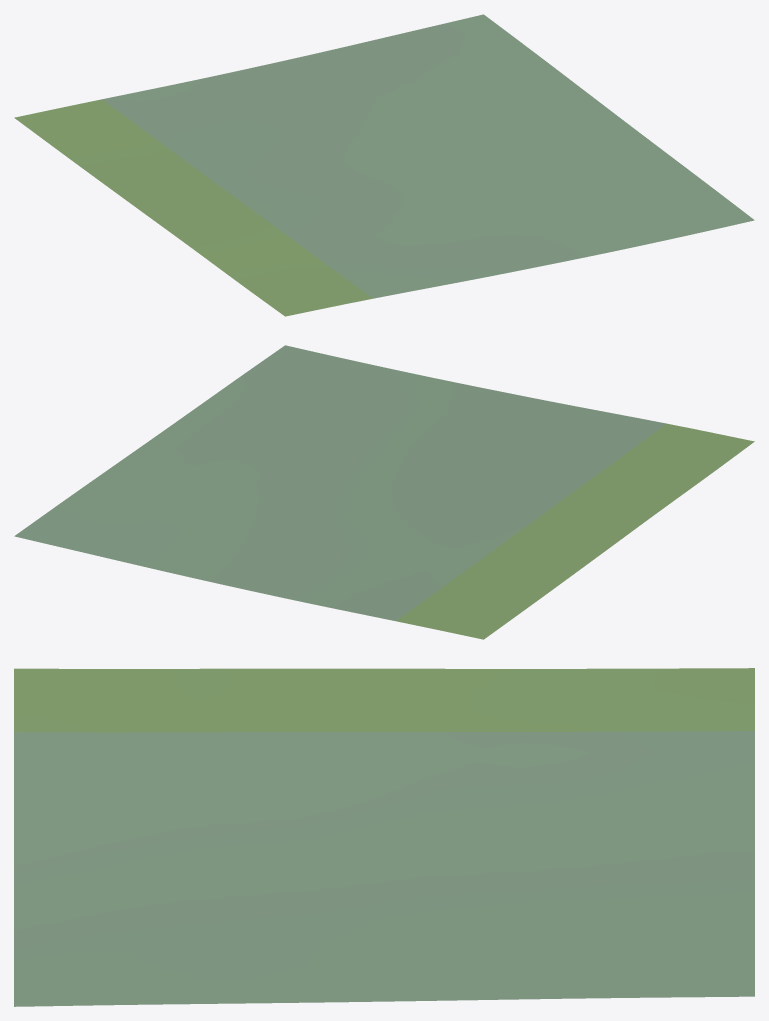
File: floor_001_chunk_x+02_z+11_collision.glb
3 renders of one model, top to bottom at view 1: azimuth 30°, elevation 25°; view 2: azimuth 150°, elevation 25°; view 3: azimuth 270°, elevation 25°, orthographic. The views are drawn at different scales.
Visible parts, largest first — view 1: floor_001_chunk_x+02_z+11_collision; view 2: floor_001_chunk_x+02_z+11_collision; view 3: floor_001_chunk_x+02_z+11_collision.
Boxes of the visible parts, x1=… form: floor_001_chunk_x+02_z+11_collision: x1=14, y1=14, x2=754, y2=316; floor_001_chunk_x+02_z+11_collision: x1=14, y1=345, x2=754, y2=639; floor_001_chunk_x+02_z+11_collision: x1=14, y1=668, x2=754, y2=1006.
Size of the model in its own units: 256 by 9.75 by 256.
